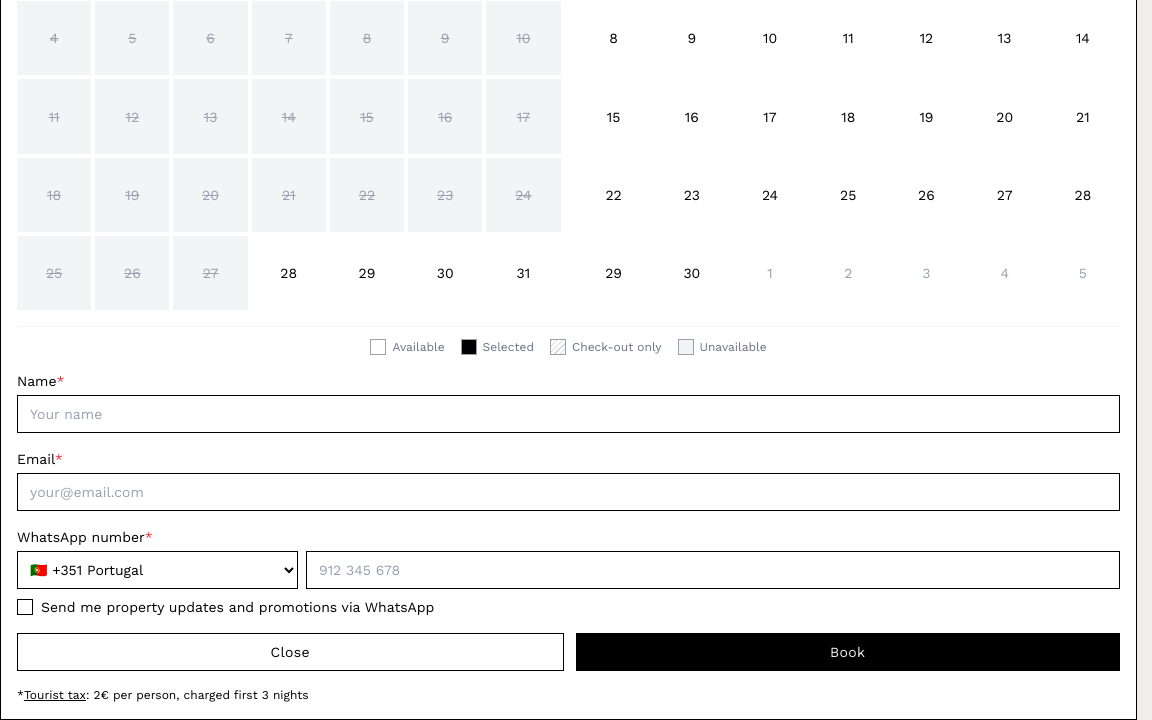
Scenario: user sees the server's friendly message when submitting without dates
(page scrolled)
Type "Guest Example" into the field labelled "Name*" at (568, 414), box [17, 395, 1120, 433]
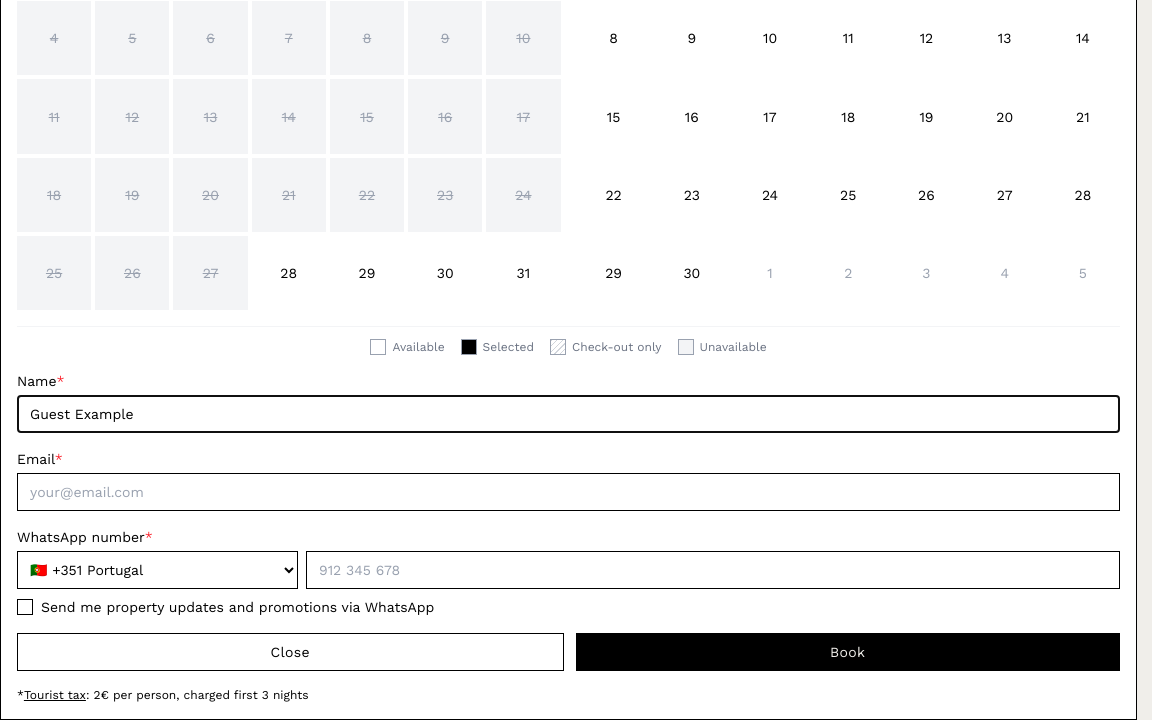
Type "guest@example.com" into the field labelled "Email*" at (568, 492), box [17, 473, 1120, 511]
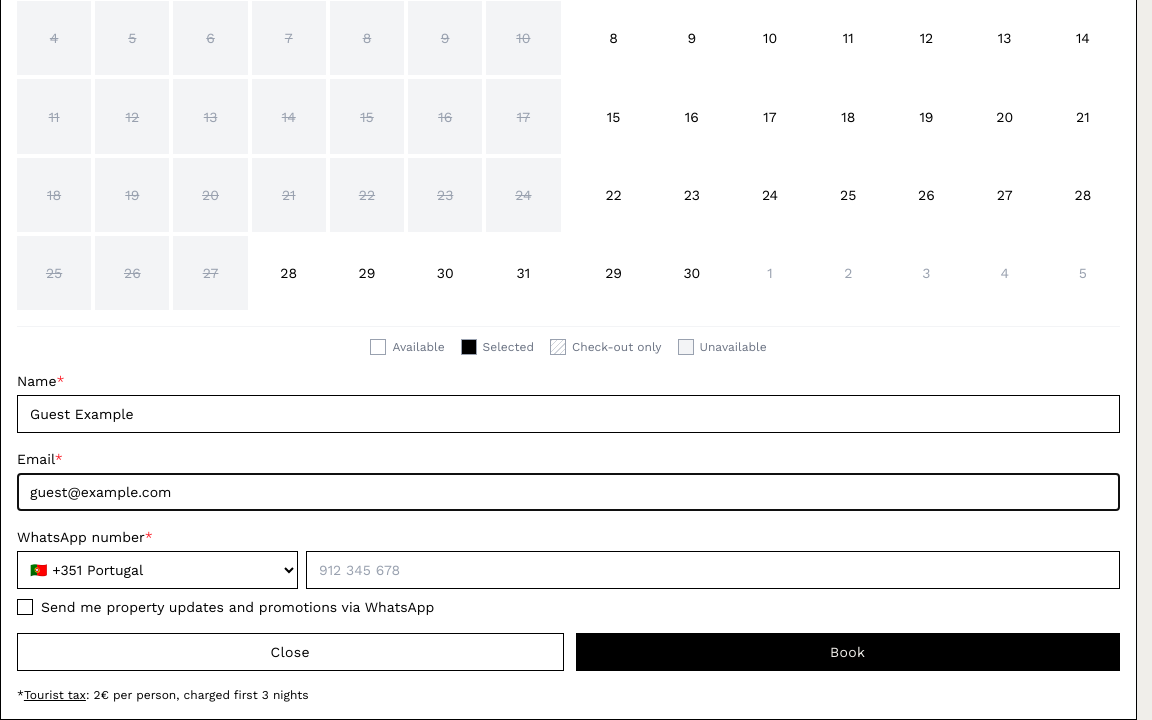
Type "920742845" into the field labelled "WhatsApp number*" at (713, 570), box [306, 551, 1120, 589]
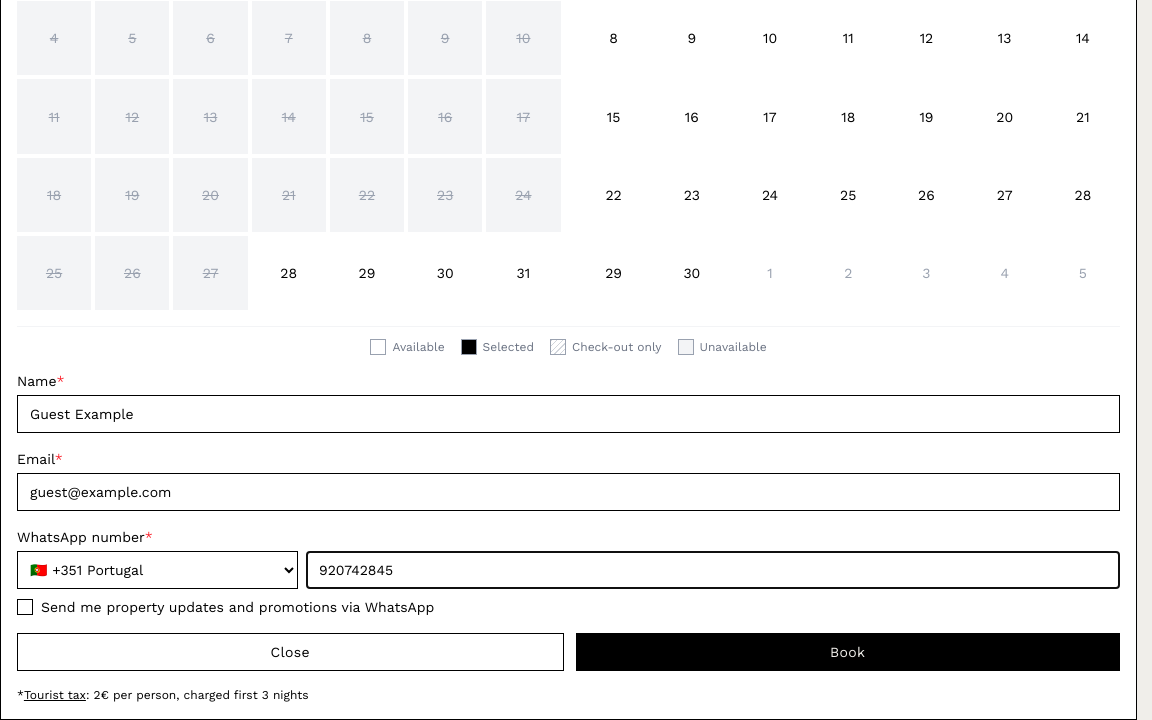
Click the button with aria-label "Confirm booking" at (848, 652), box [576, 633, 1120, 671]
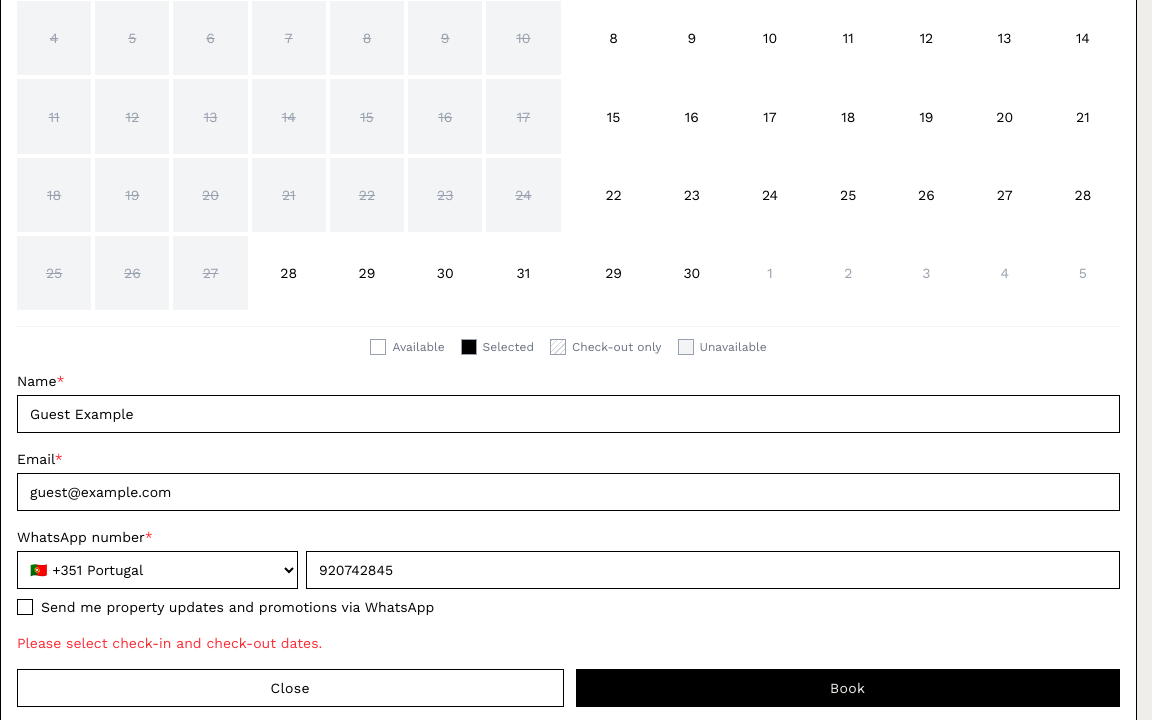
Result: the text "Please select check-in and check-out dates." is shown at [17, 635, 322, 651]
